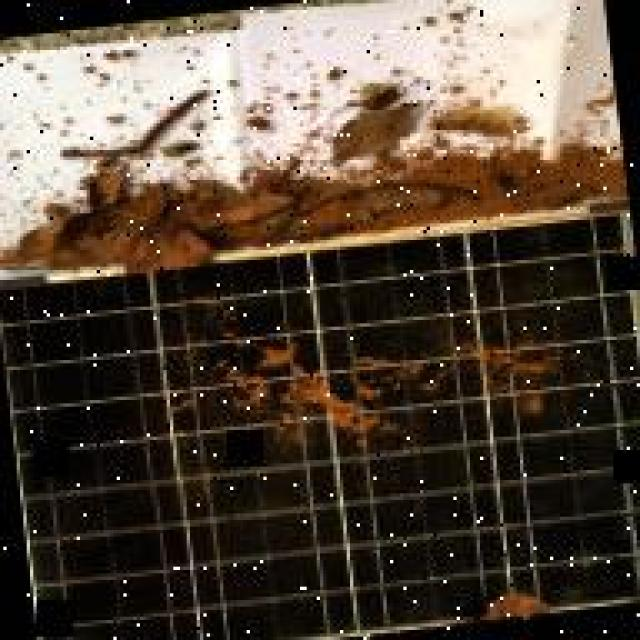dust-solar-panel: (0, 218, 640, 640)
